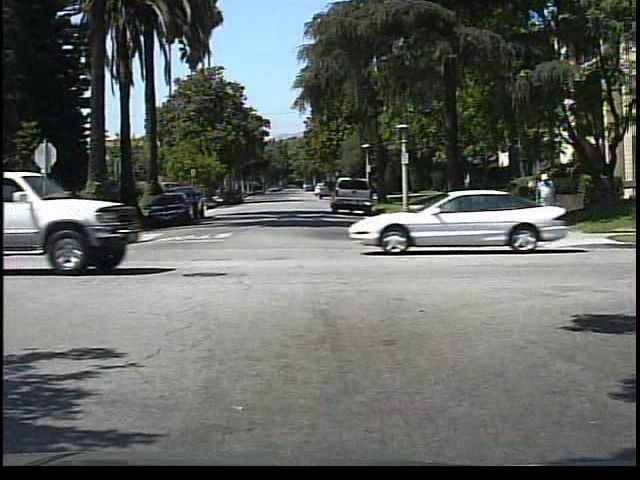person: (531, 172, 560, 232)
